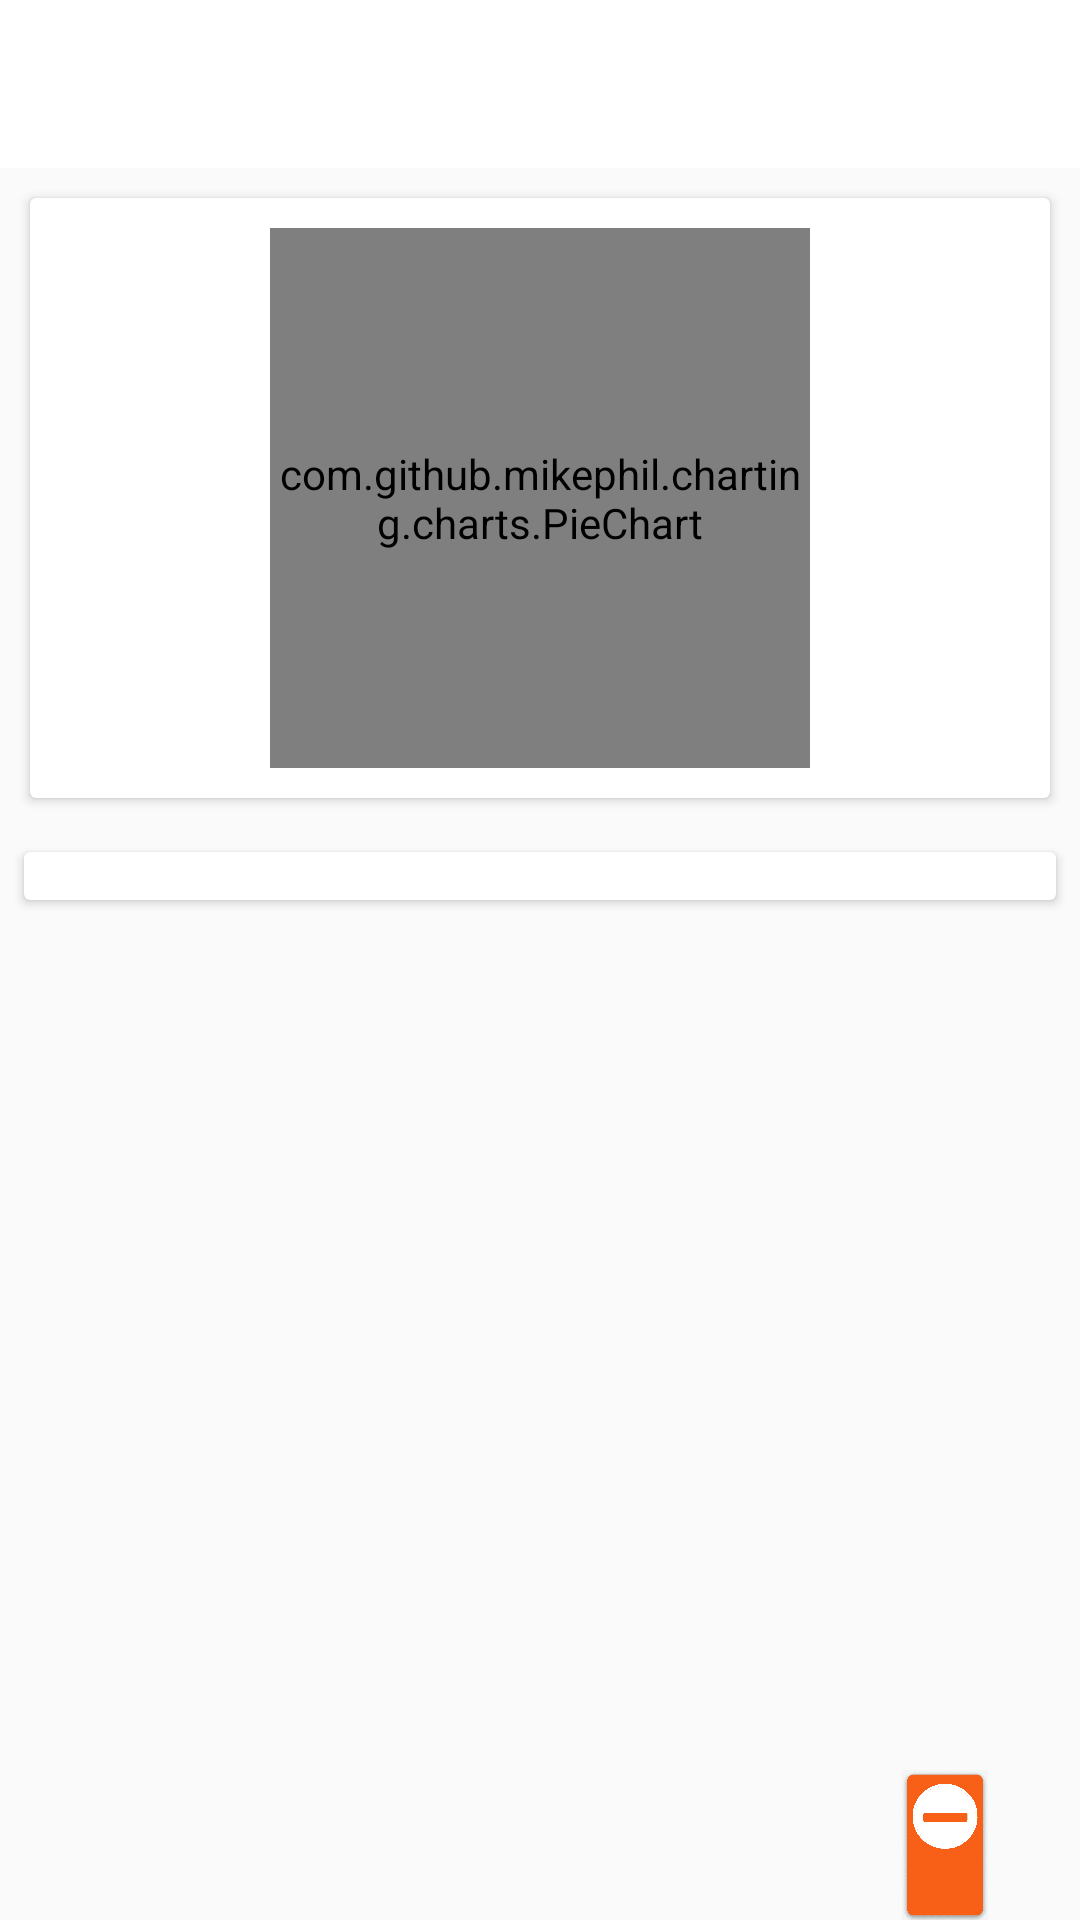

Icons on this 1080px×1920px Android screen, each with the point to tap as point (x, y):
substract: point (945, 1847)
